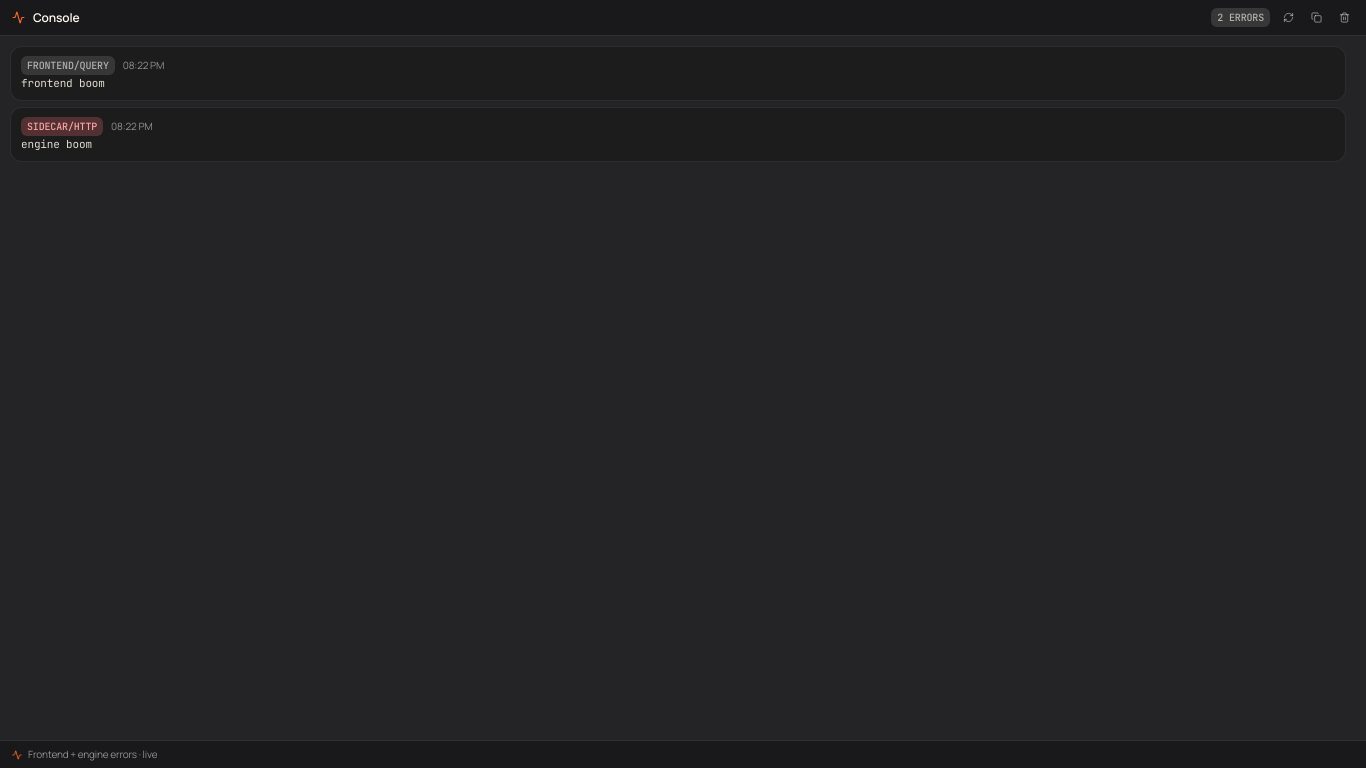
ConsolePanel (R59-E) › Clear all DELETEs the engine ring AND empties the frontend bus
expect the text "engine boom" is shown: met, box [21,137,92,151]
expect the text "frontend boom" is shown: met, box [21,76,105,90]
Step 1. Click the button named "Clear all errors" → (1344, 18), box [1334,8,1354,28]
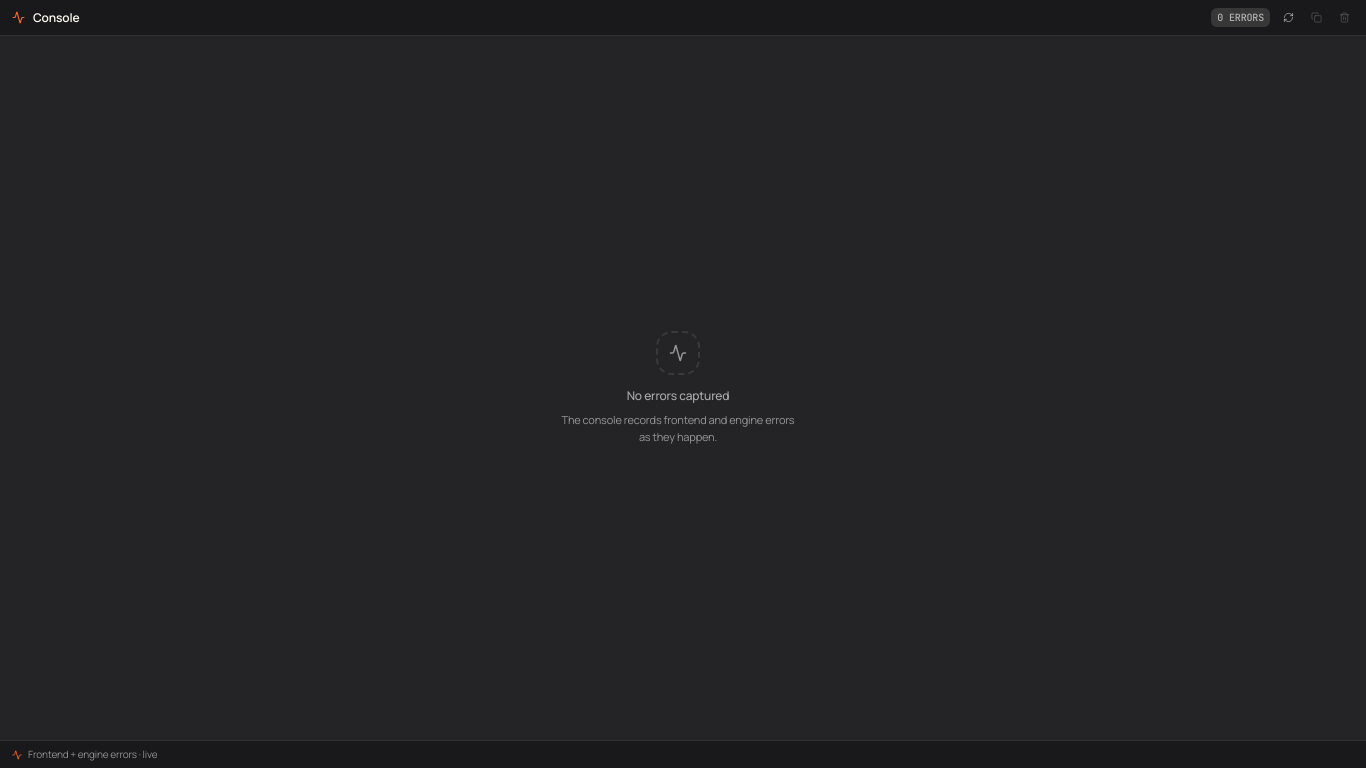
expect the text with test id "console-count" reads "0 errors": met, box [1211,8,1270,27]
expect the element with test id "console-entry" is gone: met
